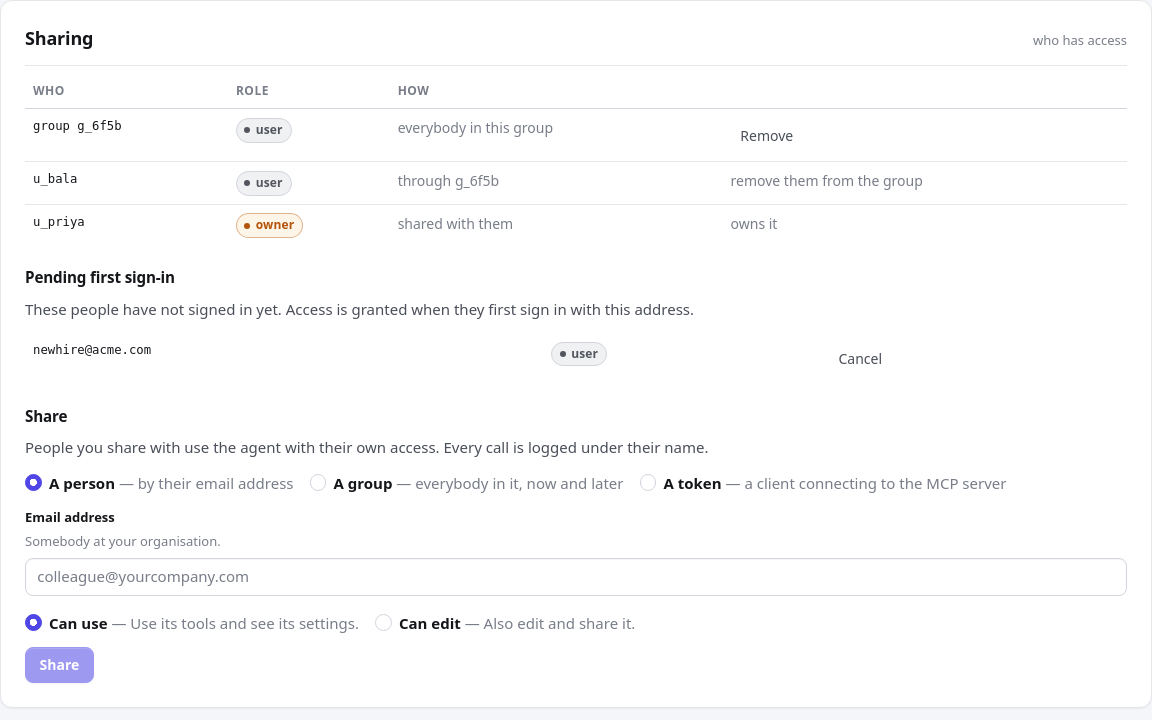
Test: sharing with a group › says what a directory-backed group costs before the share, not after
The image size is (1152, 720).
Click the radio button labelled "A group — everybody in it, now and later".
click(318, 482)  # box x1=310 y1=474 x2=326 y2=491
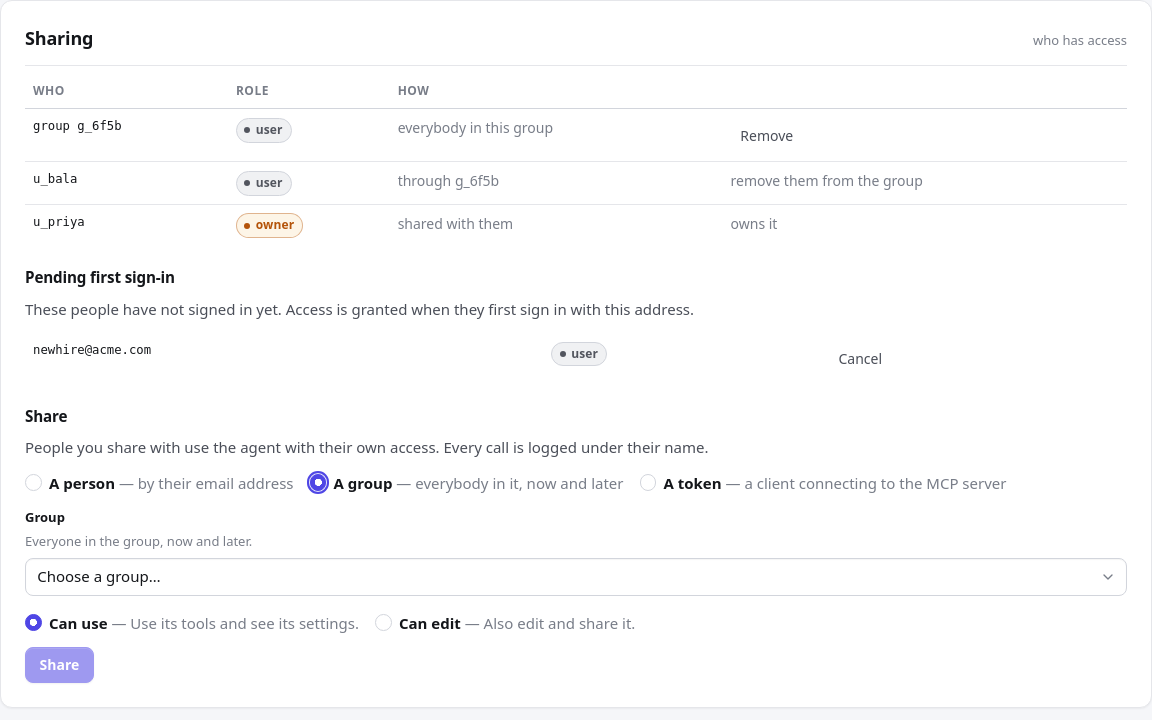
Select "eng — whoever your directory puts in it" in the dropdown labelled "Group Everyone in the group, now and later." at (576, 577), box x1=25 y1=558 x2=1127 y2=596
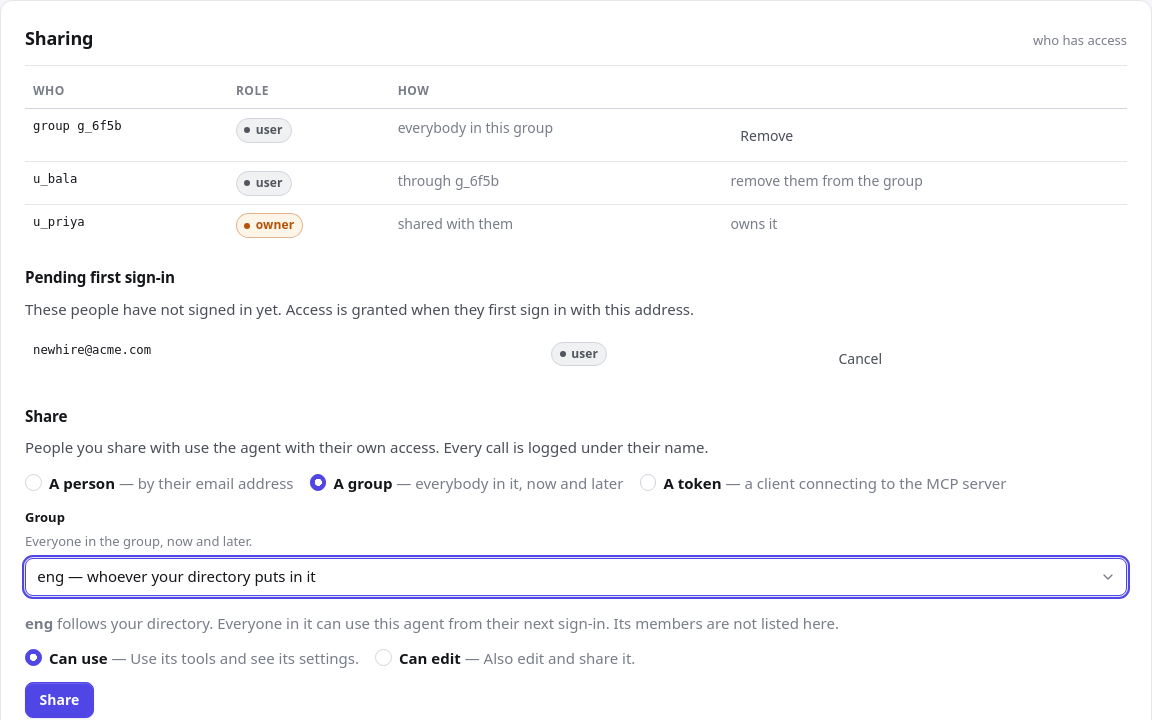
Expected: the text "managed by an administrator" is not shown
Expected: the text "Its members are not listed here" is shown, x1=53 y1=613 x2=839 y2=633
Select "oncall — whoever an administrator puts in it" in the dropdown labelled "Group Everyone in the group, now and later." at (576, 577), box x1=25 y1=558 x2=1127 y2=596
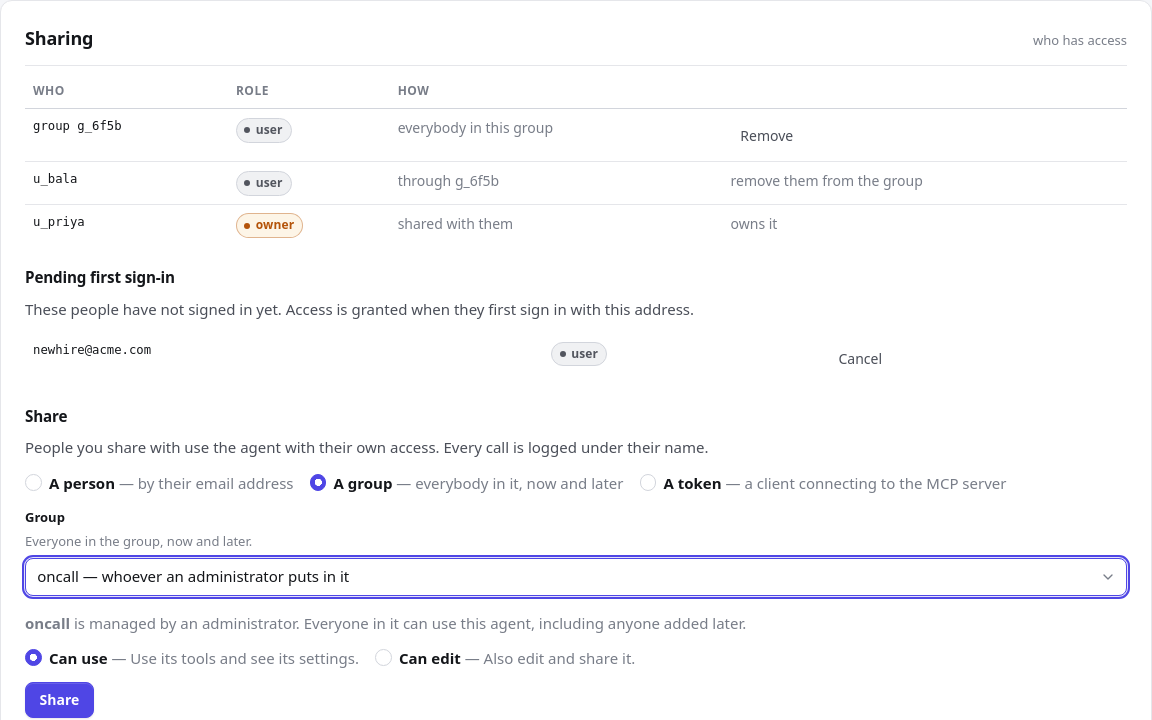
Expected: the text "managed by an administrator" is shown, x1=70 y1=613 x2=746 y2=633
Expected: the text "members are not listed here" is gone
